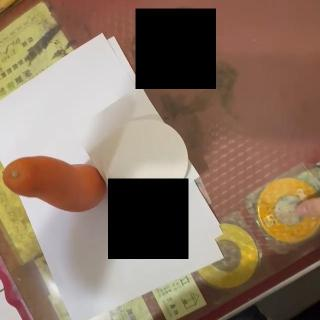carrot: (1, 155, 105, 214)
